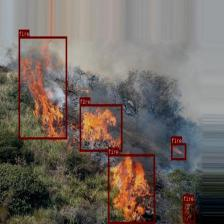fire: (18, 36, 67, 139), (108, 154, 154, 223), (79, 104, 122, 151), (171, 143, 186, 160), (183, 201, 195, 222)
